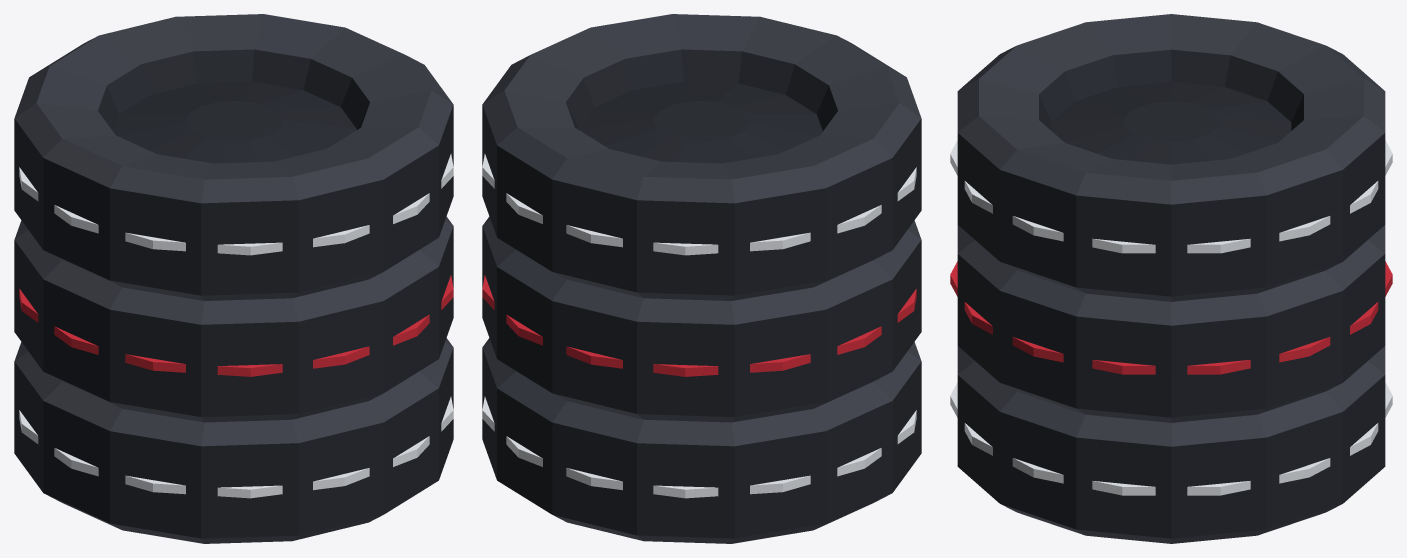
The model's file is TireStack.fbx.
3 views of the same model, side by side, from view 1: azimuth 30°, elevation 25°; view 2: azimuth 150°, elevation 25°; view 3: azimuth 270°, elevation 25° (orthographic).
Parts seen in each view (by area): view 1: TireStack; view 2: TireStack; view 3: TireStack.
Boxes of the visible parts, box(x1,y1,x2,y2) form: TireStack: box(14, 14, 453, 543); TireStack: box(482, 14, 921, 543); TireStack: box(950, 14, 1392, 543).
Bounding box in the file's own units: 4.6 × 4.2 × 4.64.
Materials: 1 (1 with a texture image).
